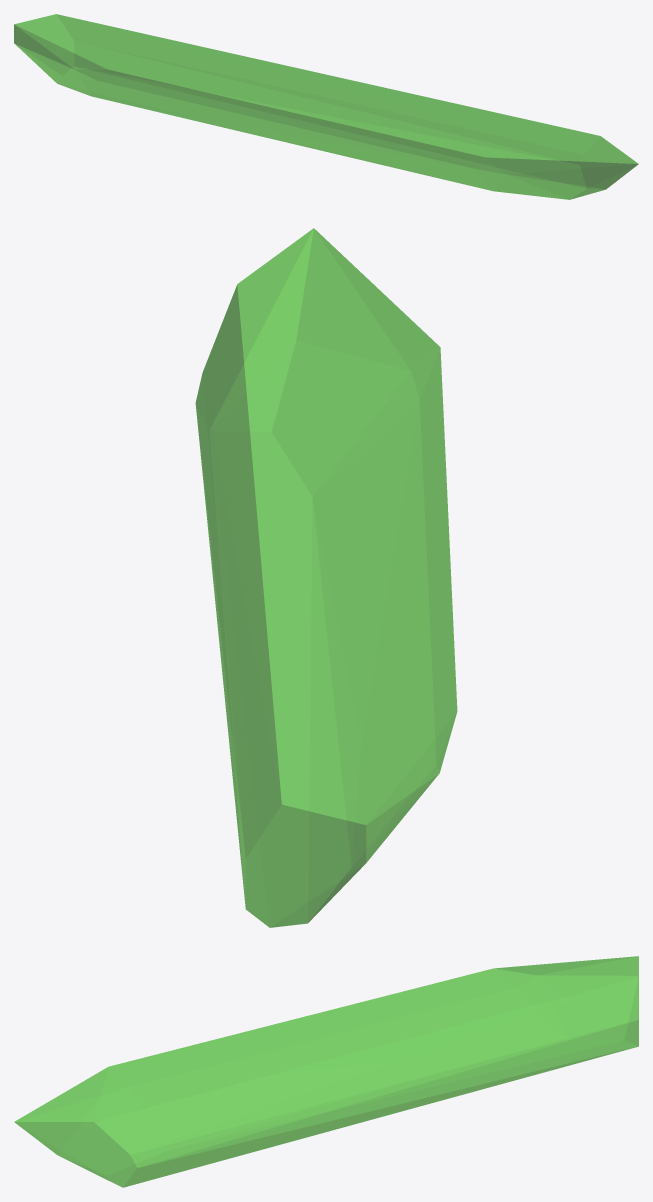
3 views of the same model, one above another, from view 1: azimuth 30°, elevation 25°; view 2: azimuth 150°, elevation 25°; view 3: azimuth 270°, elevation 25° (orthographic). The views are drawn at different scales.
Parts seen in each view (by area): view 1: Shape_IndexedFaceSet.014_Shape_IndexedFaceSet.5905; view 2: Shape_IndexedFaceSet.014_Shape_IndexedFaceSet.5905; view 3: Shape_IndexedFaceSet.014_Shape_IndexedFaceSet.5905.
Boxes of the visible parts, <box> form: Shape_IndexedFaceSet.014_Shape_IndexedFaceSet.5905: <box>14,14,638,199</box>; Shape_IndexedFaceSet.014_Shape_IndexedFaceSet.5905: <box>195,228,457,927</box>; Shape_IndexedFaceSet.014_Shape_IndexedFaceSet.5905: <box>14,956,638,1187</box>.
Size of the model in its own units: 0.1064 by 0.0197 by 0.1694.
